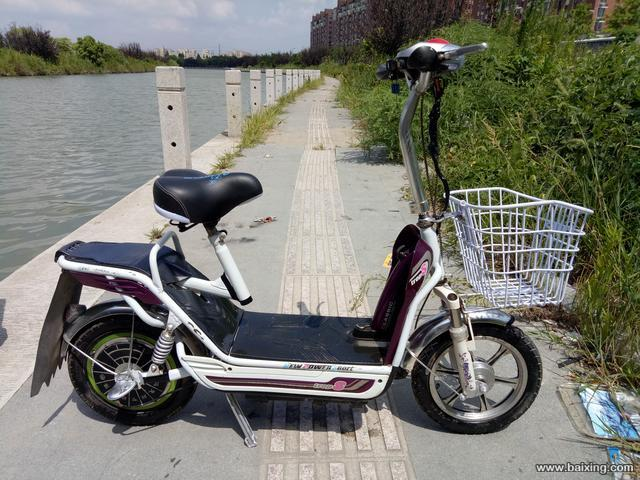电动车: (25, 20, 599, 450)
